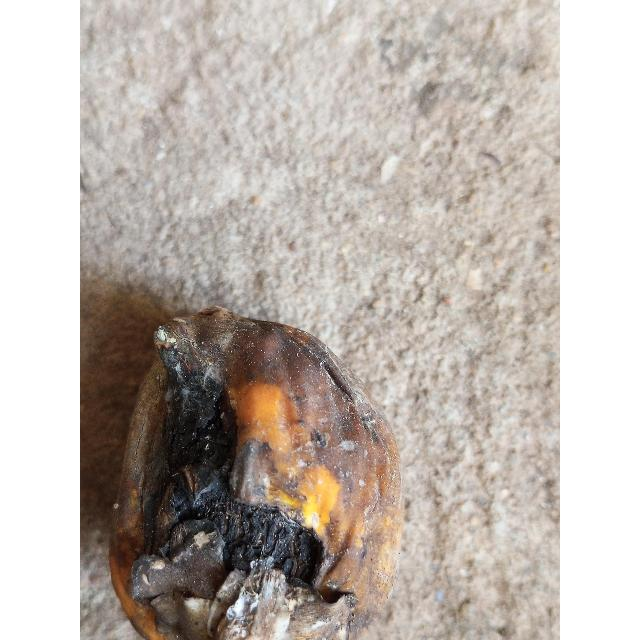damaged: (108, 308, 403, 640)
